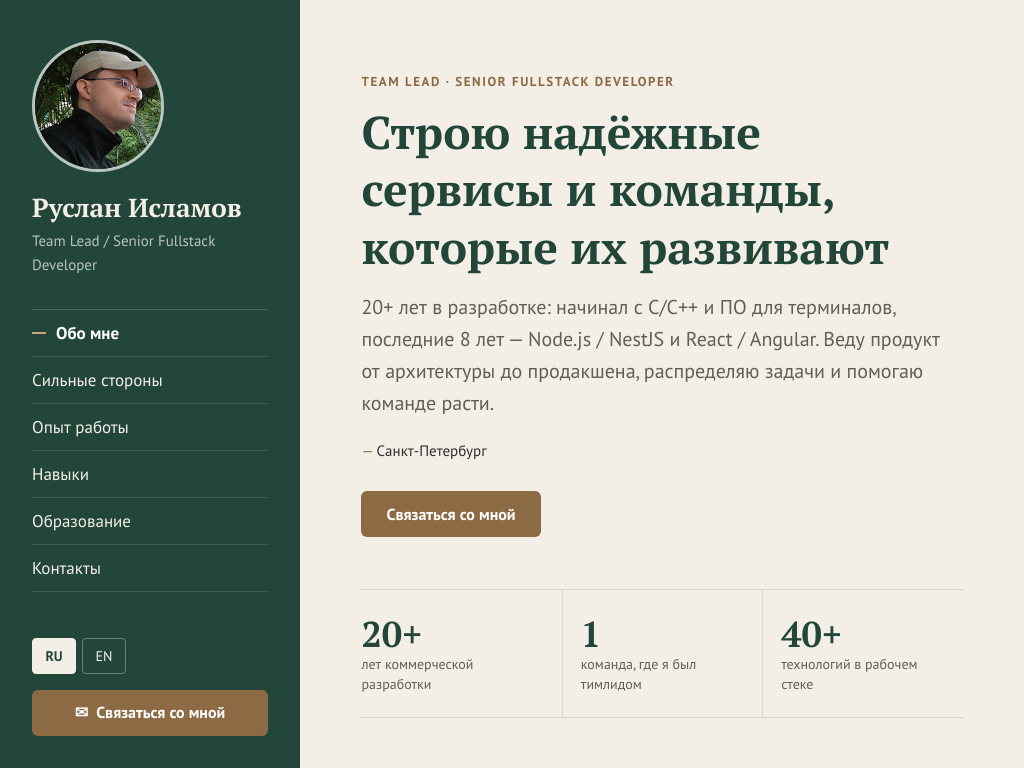
Test case: App › открывает форму связи в модальном окне
Click the button "✉ Связаться со мной": (150, 713) [32,690,268,736]
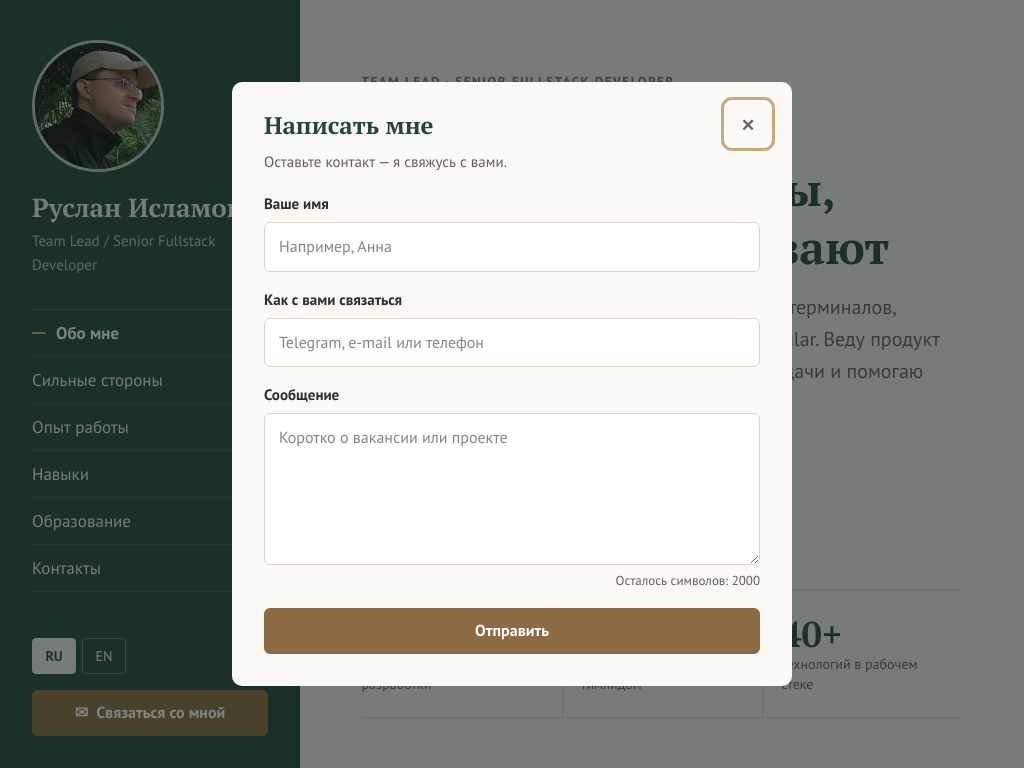
Now the field labelled "Ваше имя" is shown, box [264,222,760,272]
